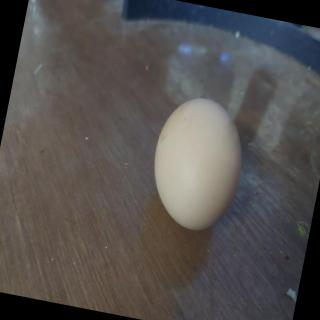Telur: (140, 88, 256, 241)
